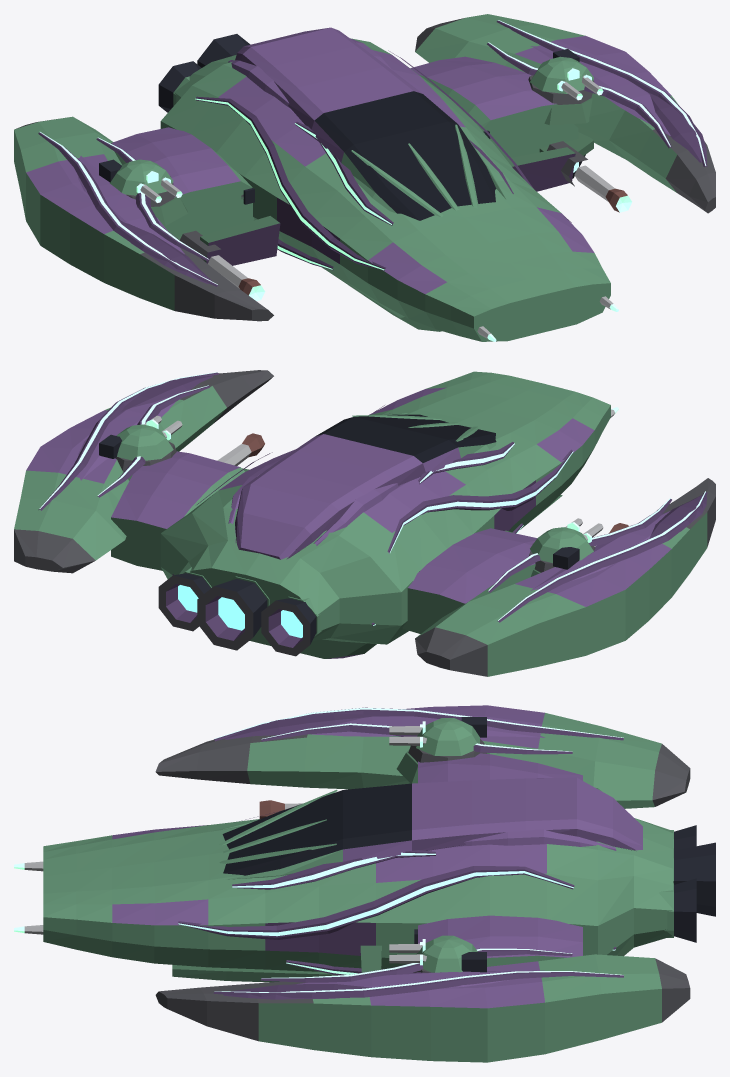
The model's file is alien-raider.glb.
3 renders of one model, top to bottom at view 1: azimuth 30°, elevation 25°; view 2: azimuth 150°, elevation 25°; view 3: azimuth 270°, elevation 25°, orthographic. The views are drawn at different scales.
Parts seen in each view (by area): view 1: hull, wing-left-shell, wing-right-shell, turret-right-shell, turret-left-shell, nozzle-shells, hull-glow, wing-right-glow, wing-left-glow; view 2: hull, wing-left-shell, wing-right-shell, nozzle-shells, turret-right-shell, turret-left-shell, nozzle-glow, hull-glow, wing-left-glow, wing-right-glow; view 3: hull, wing-right-shell, wing-left-shell, nozzle-shells, turret-left-shell, hull-glow, turret-right-shell, wing-right-glow, wing-left-glow.
Boxes of the visible parts, x1,y1,x2,y2 form: hull: [160, 27, 627, 341]; wing-left-shell: [14, 116, 273, 321]; wing-right-shell: [410, 14, 715, 213]; turret-right-shell: [528, 49, 601, 125]; turret-left-shell: [99, 159, 187, 225]; nozzle-shells: [158, 34, 250, 112]; hull-glow: [195, 98, 631, 341]; wing-right-glow: [488, 20, 706, 172]; wing-left-glow: [40, 132, 217, 284]; hull: [160, 371, 628, 658]; wing-left-shell: [402, 478, 715, 676]; wing-right-shell: [14, 370, 273, 573]; nozzle-shells: [158, 567, 322, 656]; turret-right-shell: [99, 415, 182, 480]; turret-left-shell: [529, 518, 603, 576]; nozzle-glow: [178, 585, 302, 637]; hull-glow: [373, 407, 618, 625]; wing-left-glow: [488, 491, 705, 620]; wing-right-glow: [39, 372, 217, 508]; hull: [24, 777, 672, 982]; wing-right-shell: [155, 915, 690, 1062]; wing-left-shell: [155, 705, 690, 808]; nozzle-shells: [659, 825, 715, 942]; turret-left-shell: [389, 717, 489, 783]; hull-glow: [14, 852, 615, 974]; turret-right-shell: [389, 935, 486, 972]; wing-right-glow: [214, 948, 623, 992]; wing-left-glow: [214, 707, 623, 751].
Size of the model in its own units: 11.96 by 3.15 by 11.71.
